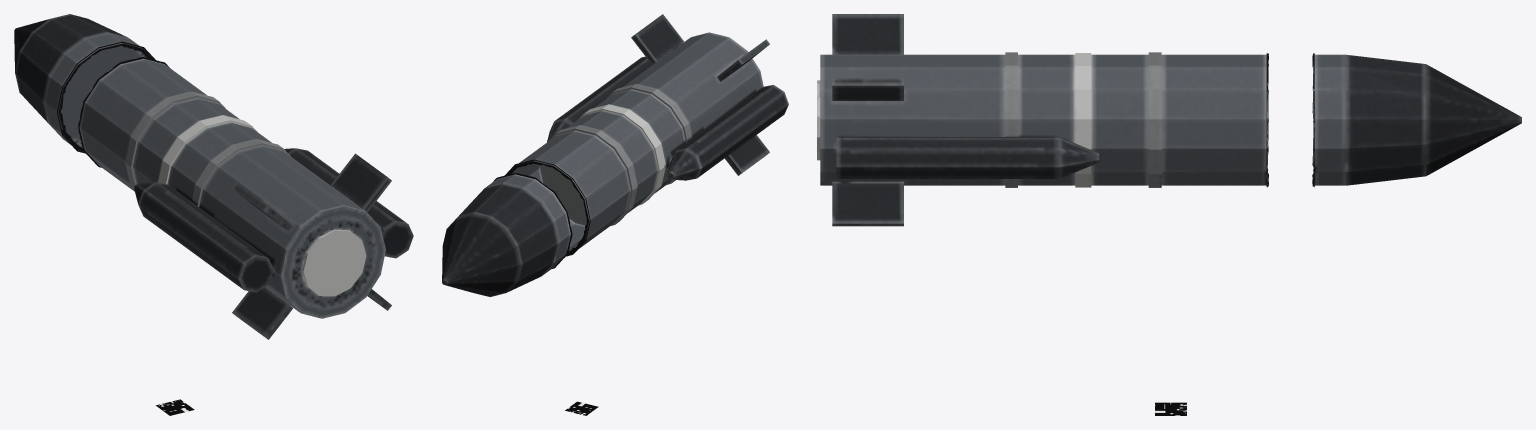
Rendered from chs_nuke.fbx.
3 renders of one model, left to right at view 1: azimuth 30°, elevation 25°; view 2: azimuth 150°, elevation 25°; view 3: azimuth 270°, elevation 25°, orthographic. The views are drawn at different scales.
Visible parts, largest first — view 1: base_bar, base_glow_weapon_bar, base_glow_running_bar, emissive_probe; view 2: base_bar, base_glow_running_bar; view 3: base_bar, base_glow_running_bar.
Boxes of the visible parts, x1,y1,x2,y2 form: base_bar: [14, 14, 413, 339]; base_glow_weapon_bar: [302, 229, 366, 296]; base_glow_running_bar: [158, 115, 257, 184]; emissive_probe: [156, 399, 194, 415]; base_bar: [442, 14, 788, 296]; base_glow_running_bar: [578, 104, 665, 205]; base_bar: [820, 14, 1521, 226]; base_glow_running_bar: [1075, 53, 1091, 187].
Bounding box in the file's own units: 140 × 251 × 442.
Materials: 2 (2 with a texture image).
